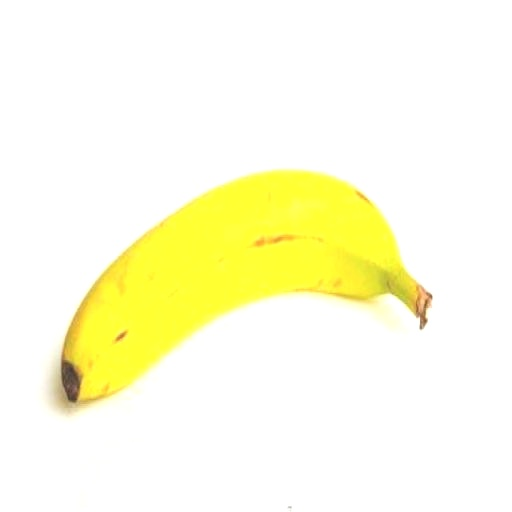fruit: (62, 171, 431, 401)
